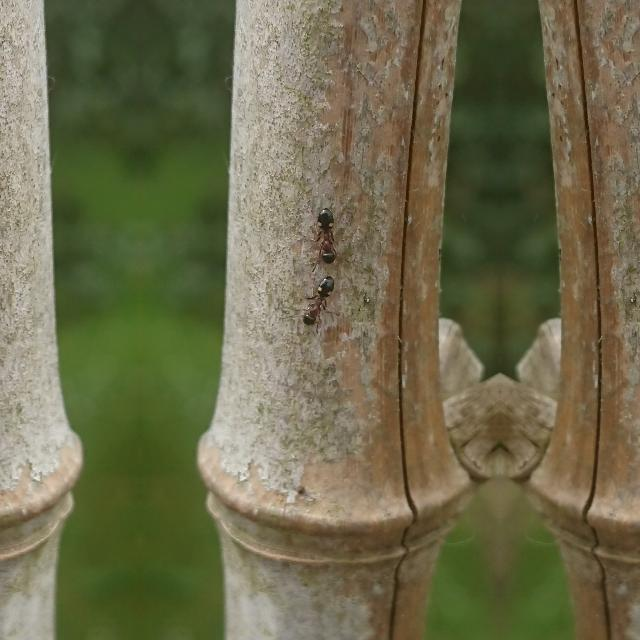Dolichoderus: (310, 188, 344, 268), (300, 268, 340, 334)
